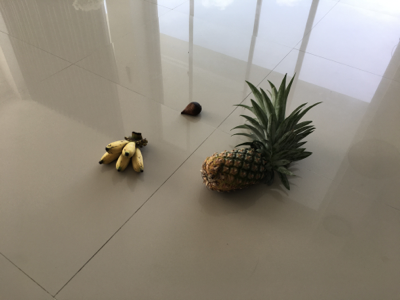banana: (98, 131, 149, 178)
pineapple: (202, 73, 323, 198)
snake fruit: (182, 102, 202, 118)
